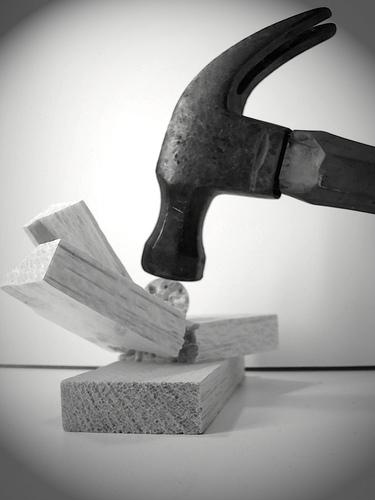hammer: (137, 3, 374, 282)
